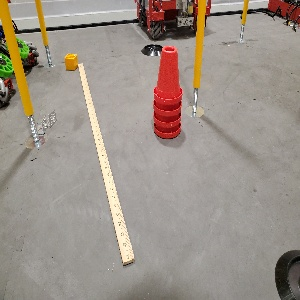Red_4: (152, 45, 182, 138)
